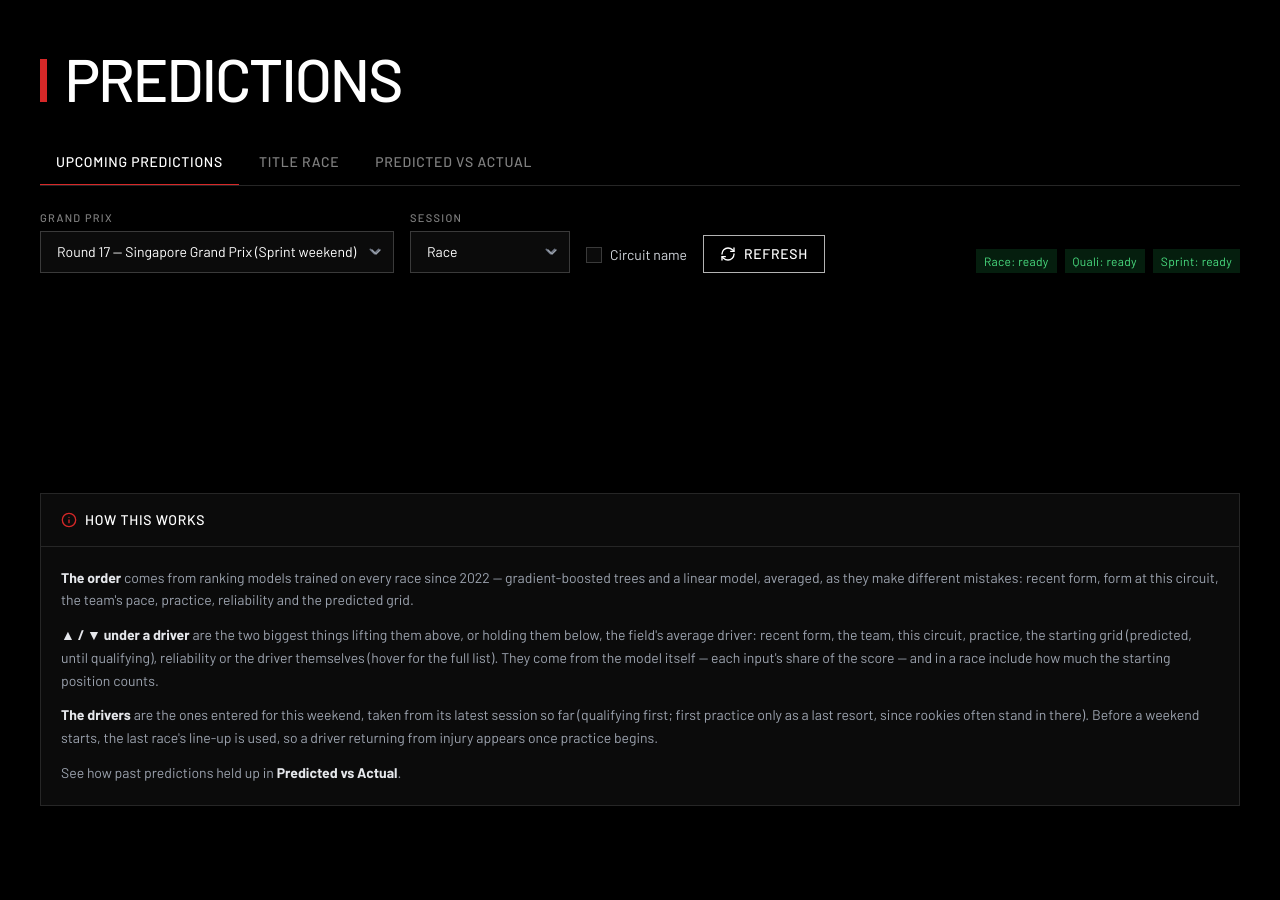
one session at a time — the race by default, the others from the dropdown in weekend order
Expected: the text "Qualifying Prediction" is not shown
Select "Qualifying" in the dropdown labelled "Session" at (490, 252), box [410,230,570,272]
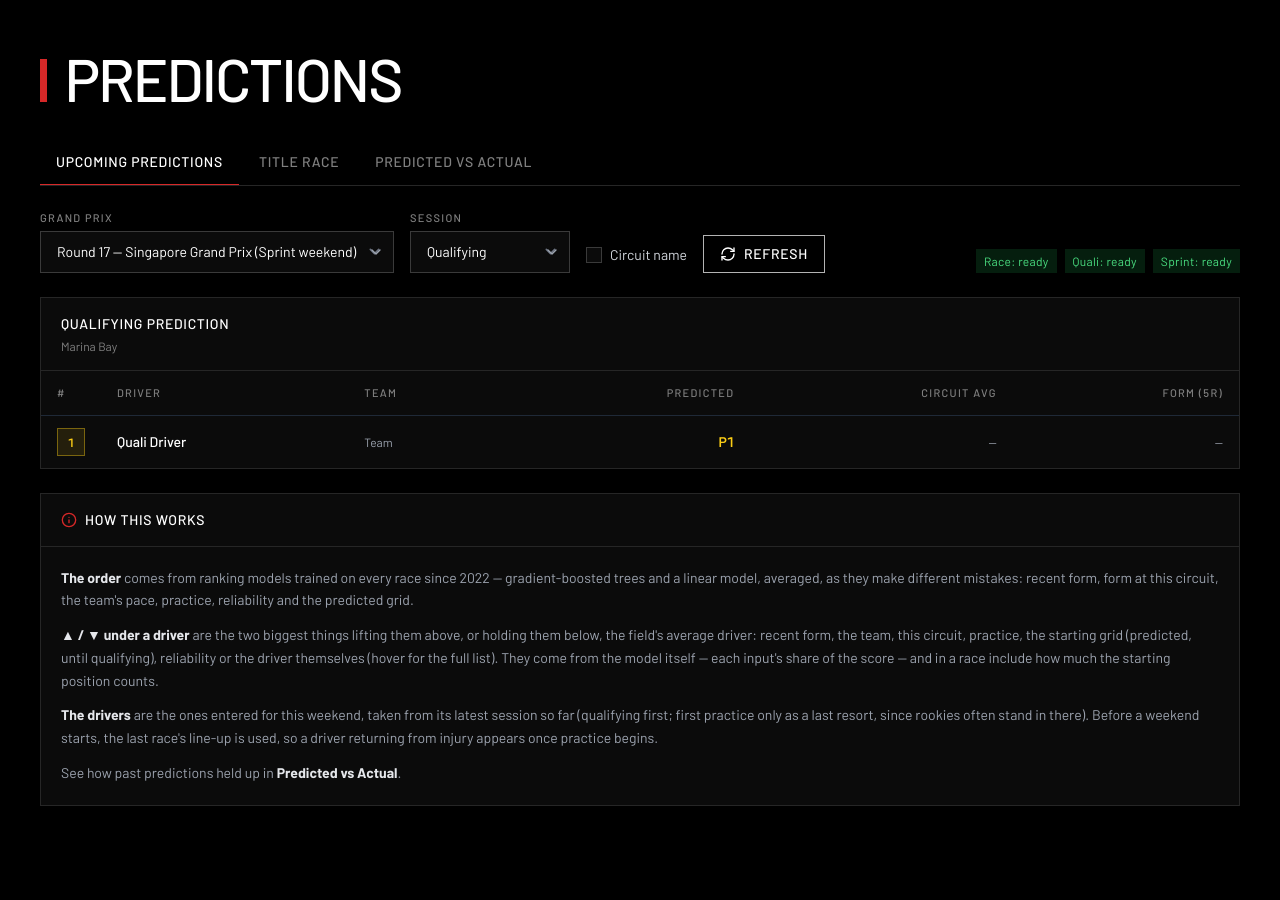
Expected: the text "Qualifying Prediction" is shown, [61,314,229,334]
Expected: the text "Quali Driver" is shown, [101,415,348,468]
